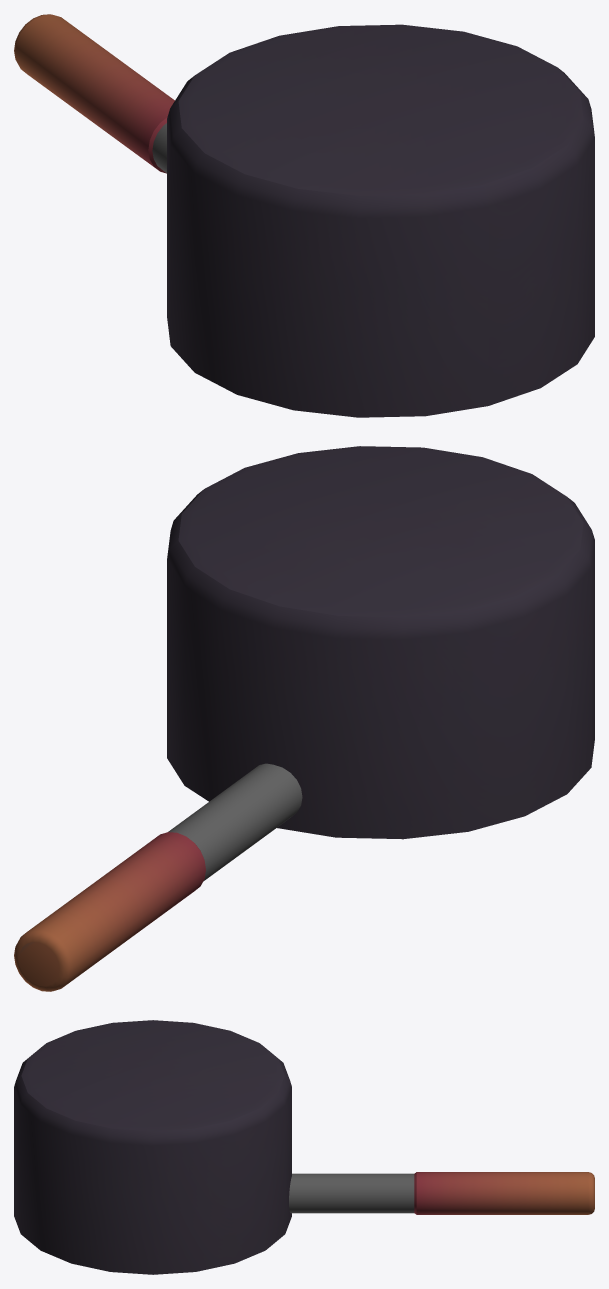
The model's file is pothat.fbx.
The picture shows the model from 3 angles, top to bottom: view 1: azimuth 30°, elevation 25°; view 2: azimuth 150°, elevation 25°; view 3: azimuth 270°, elevation 25°; orthographic projection. The views are drawn at different scales.
Parts seen in each view (by area): view 1: pot; view 2: pot; view 3: pot.
Part boxes in pixels (x1,y1,x2,y2): pot: (14, 14, 594, 417); pot: (14, 446, 594, 991); pot: (14, 1020, 594, 1274).
Bounding box in the file's own units: 108 × 60.71 × 225.
